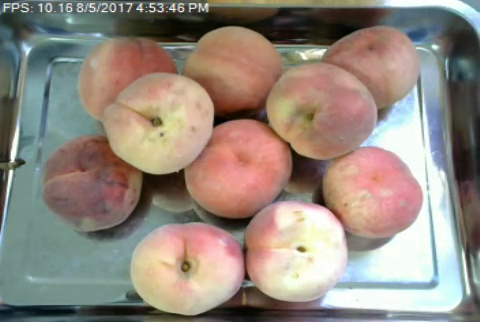Peach: (97, 72, 217, 171), (264, 63, 380, 161), (243, 199, 350, 303), (182, 119, 293, 218), (128, 223, 245, 315), (310, 24, 425, 111), (40, 132, 141, 230), (321, 146, 424, 238), (183, 26, 284, 112), (83, 35, 171, 124)
